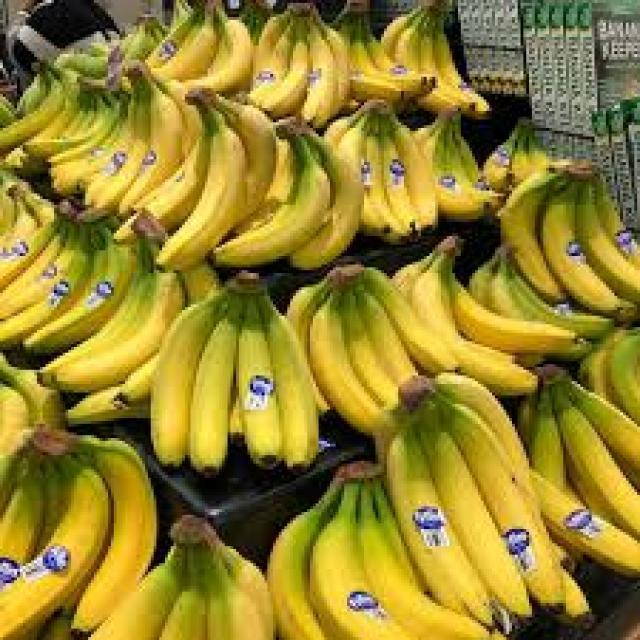Banana: (376, 370, 592, 634), (264, 460, 512, 638), (148, 270, 327, 475), (0, 426, 156, 637), (43, 209, 193, 426), (390, 234, 580, 396), (284, 262, 458, 436), (116, 86, 278, 270), (3, 55, 185, 216), (495, 156, 637, 324), (316, 98, 440, 234), (0, 203, 115, 349), (378, 0, 489, 117), (248, 2, 352, 126), (142, 0, 253, 97)
